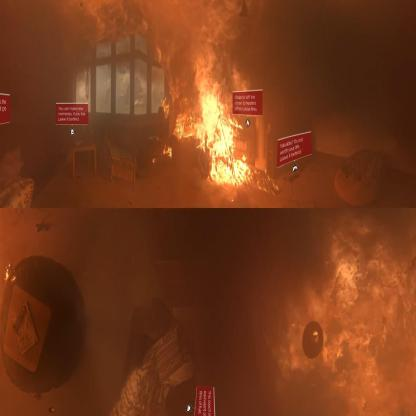fire: (3, 256, 17, 287)
